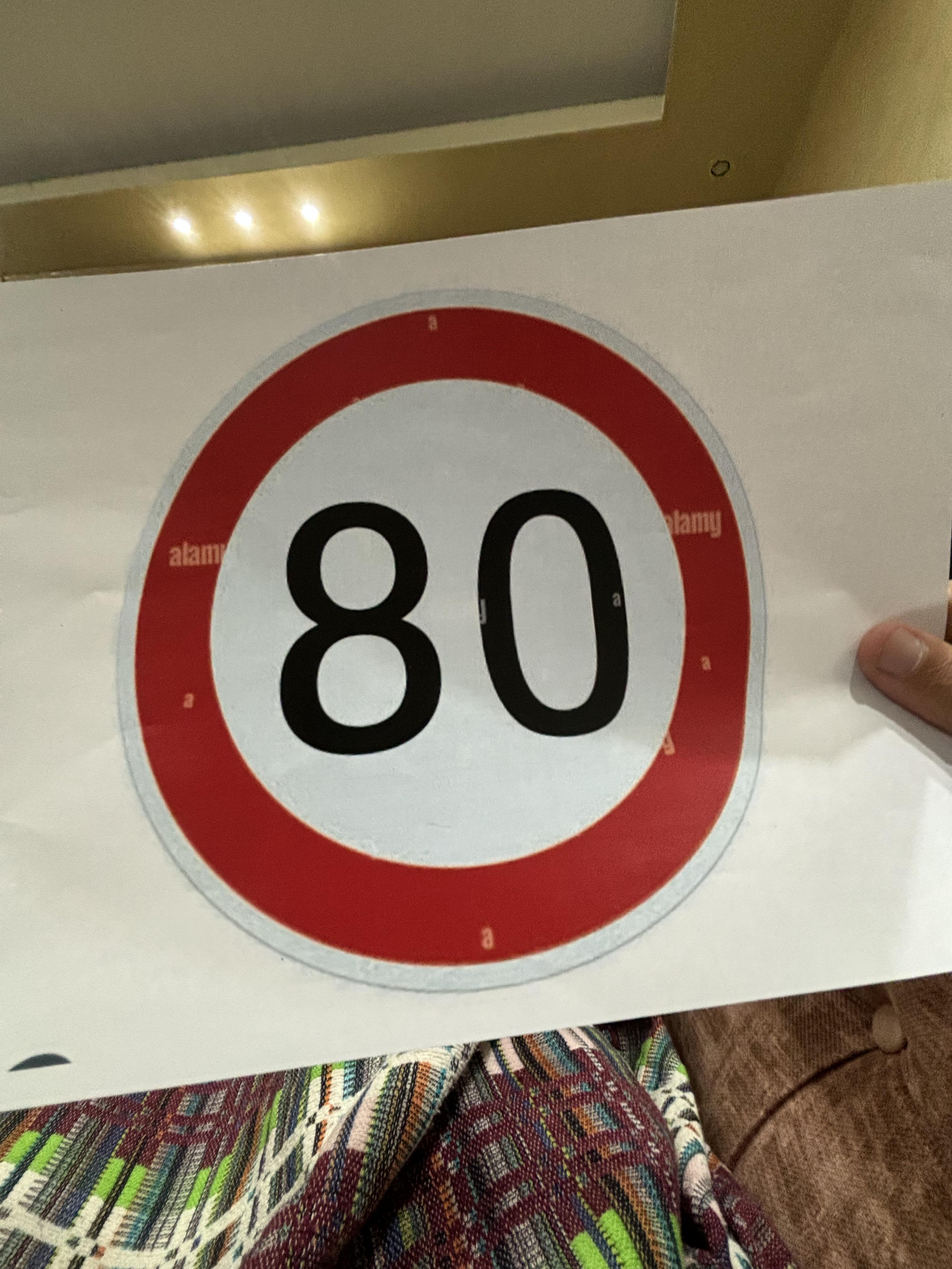80-Speed: (105, 293, 795, 991)
